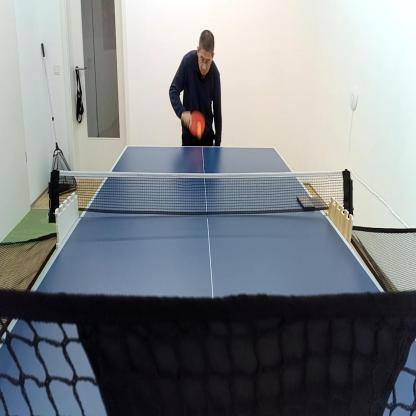Ball: (196, 121, 202, 140)
